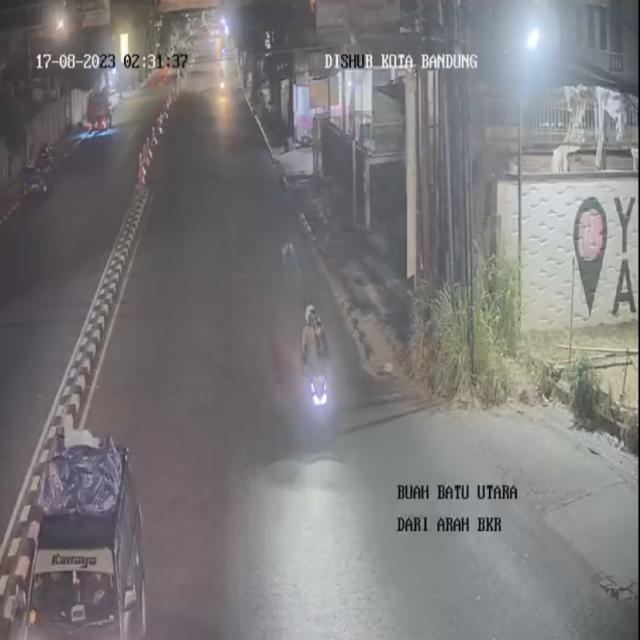cars: (12, 431, 147, 637)
motorcycle: (296, 294, 342, 458)
